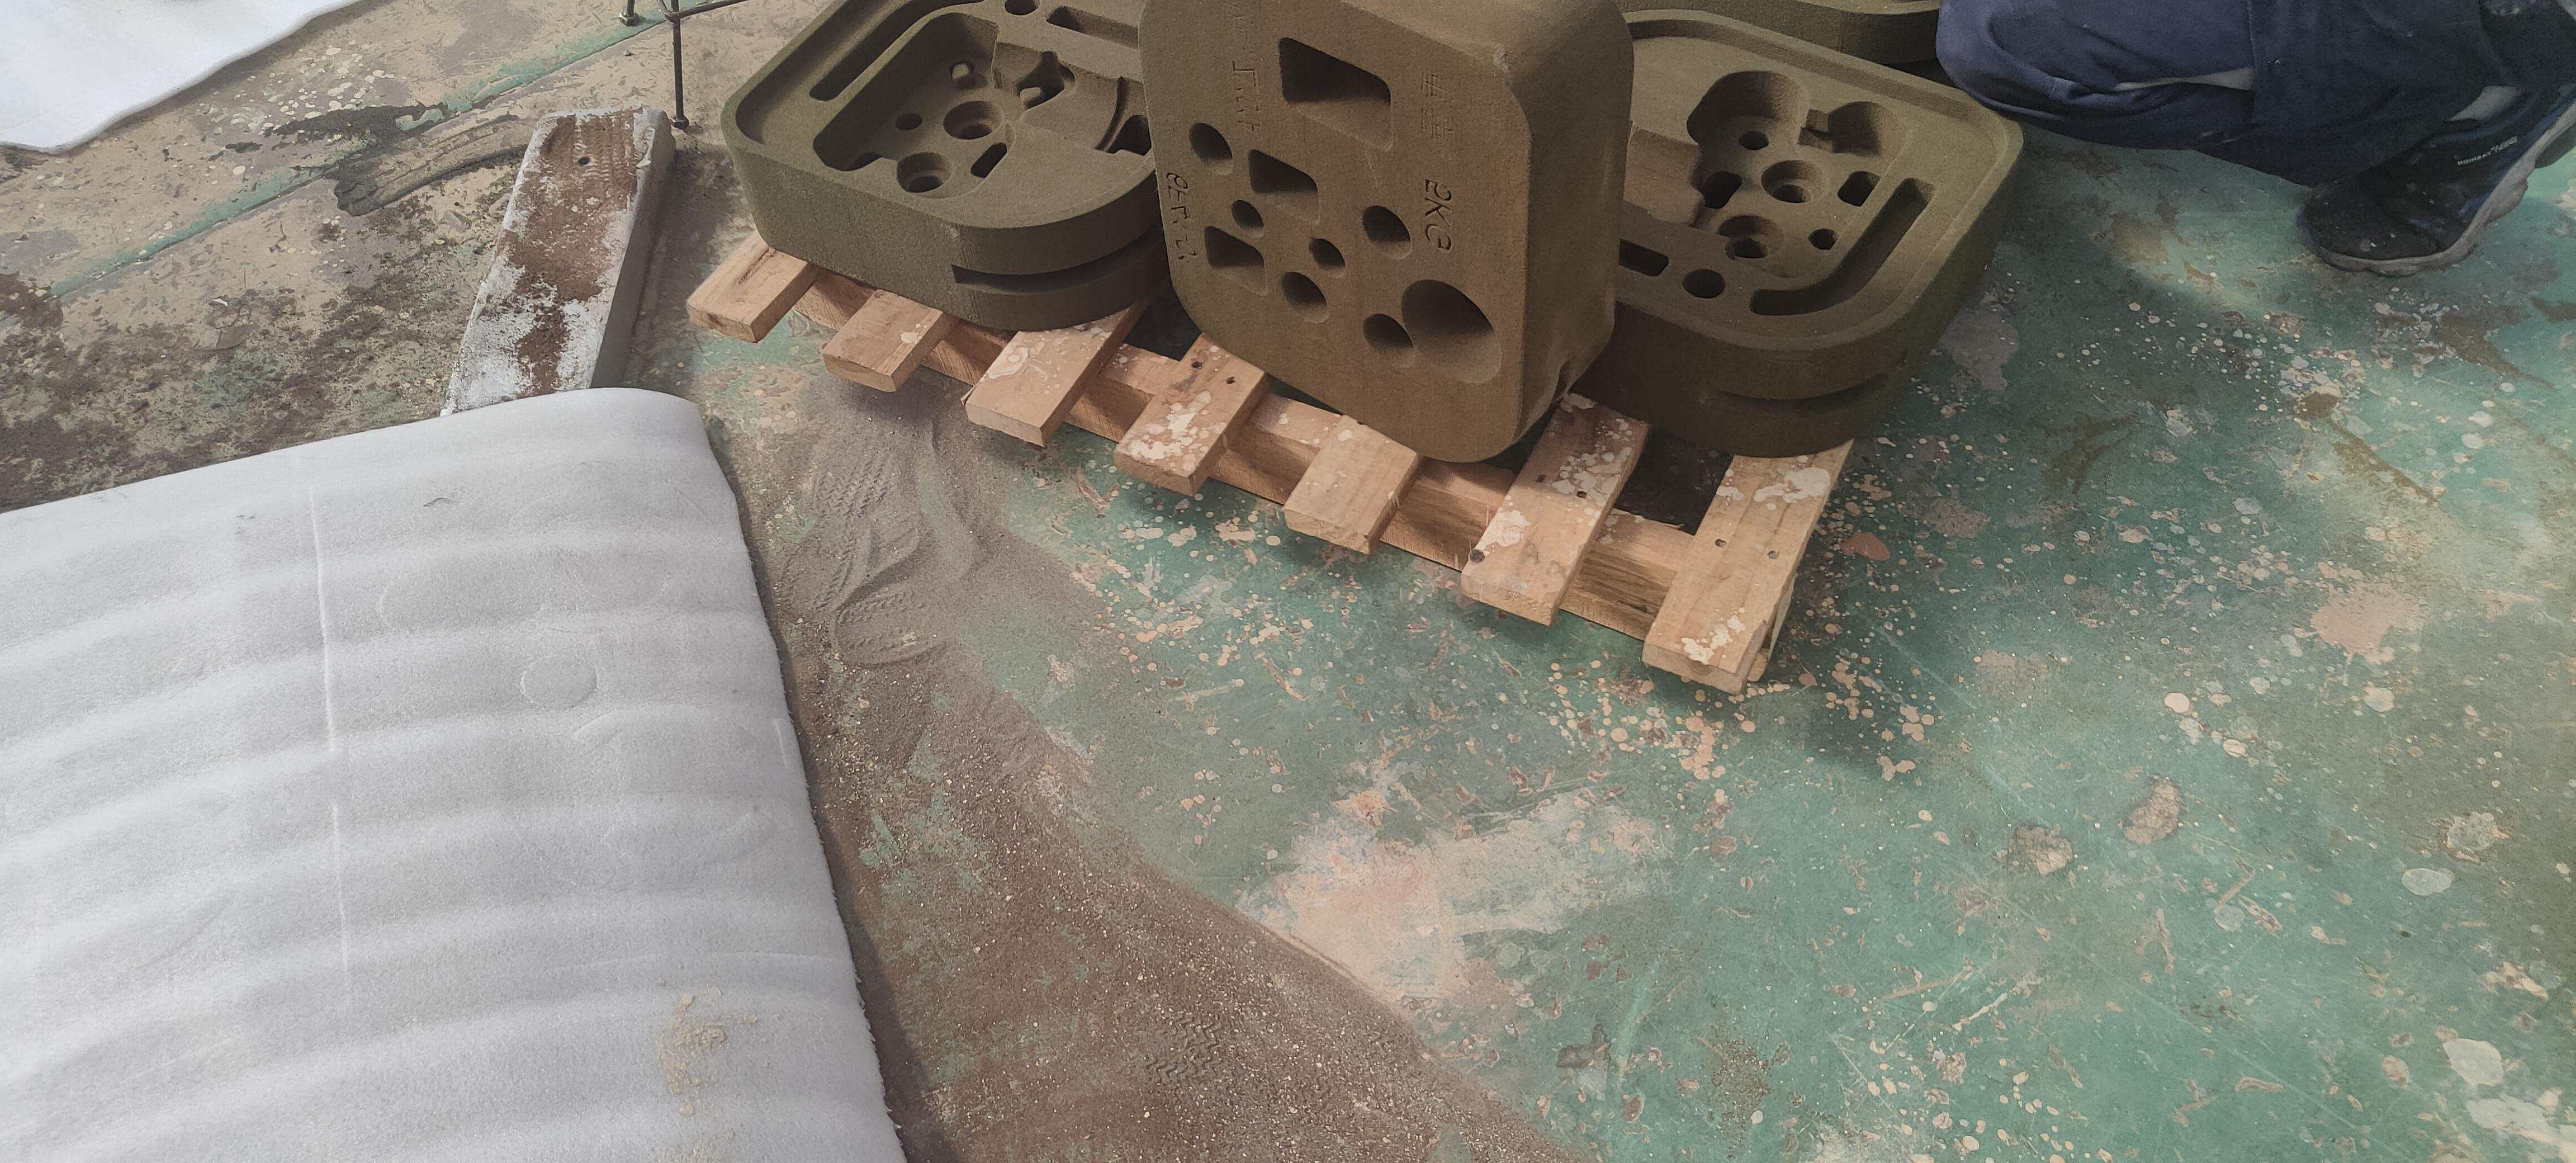pouring hole: (1400, 279, 1502, 384)
